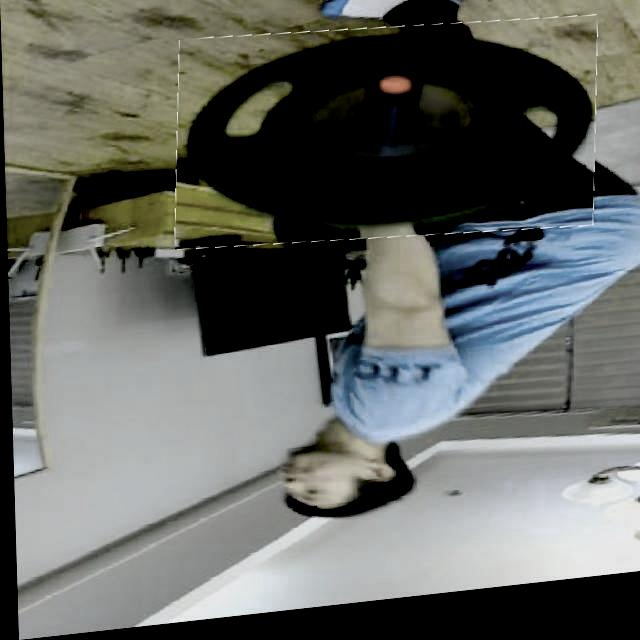barbell: (172, 13, 600, 270)
